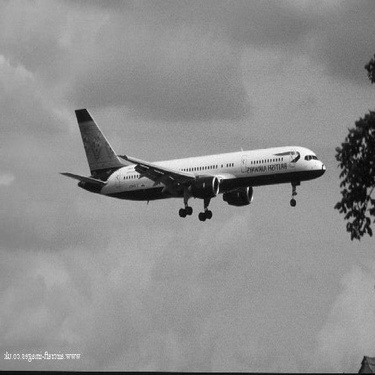airplane: (59, 104, 333, 223)
